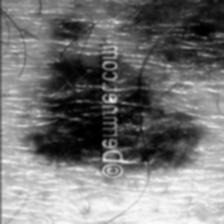Potentially Malignant Skin Tumors: (38, 83, 194, 167), (178, 22, 212, 40)
